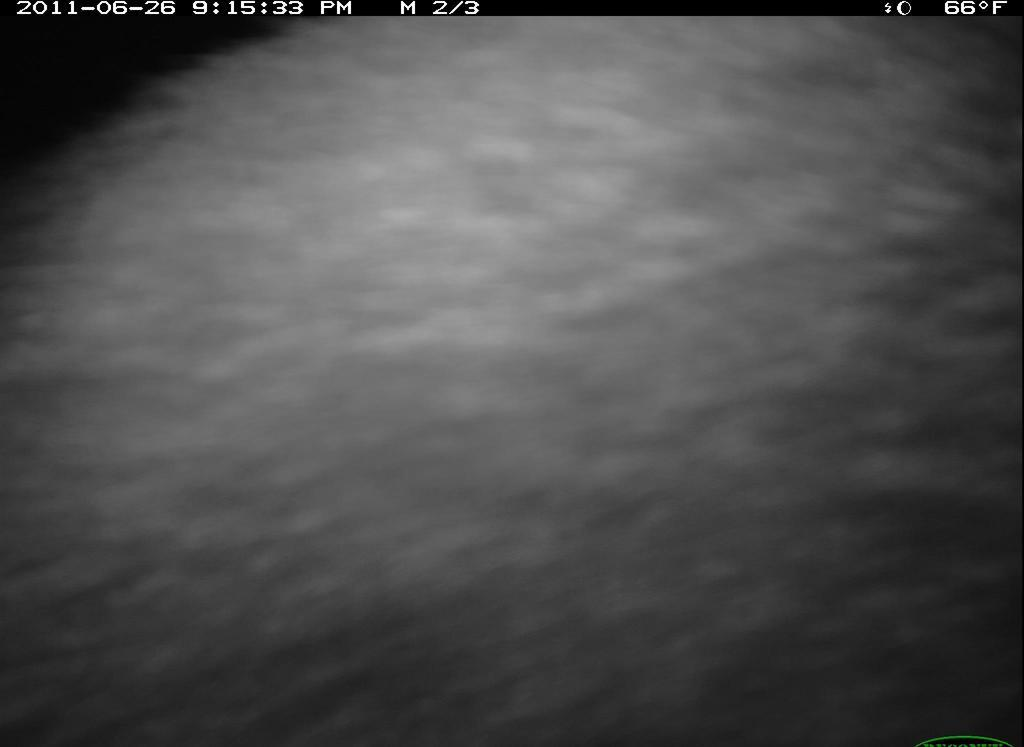raccoon: (6, 27, 1023, 747)
